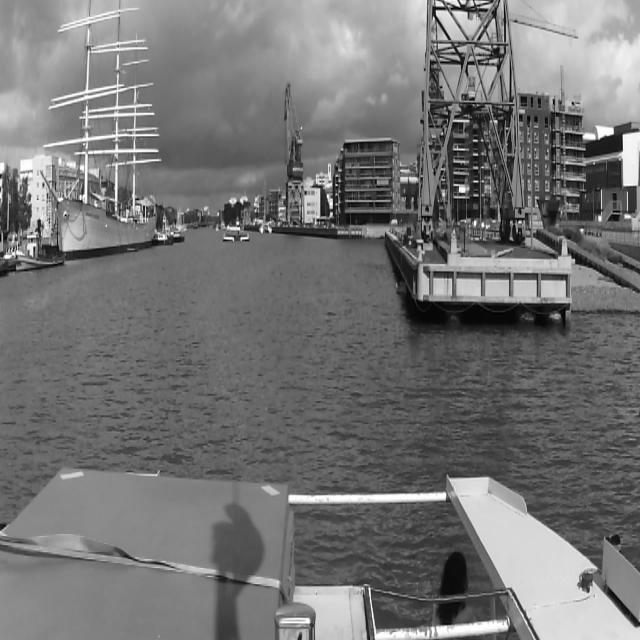ship: (41, 0, 163, 258), (14, 222, 64, 278), (259, 180, 273, 237), (222, 223, 250, 245), (154, 234, 174, 248), (171, 227, 184, 241)
